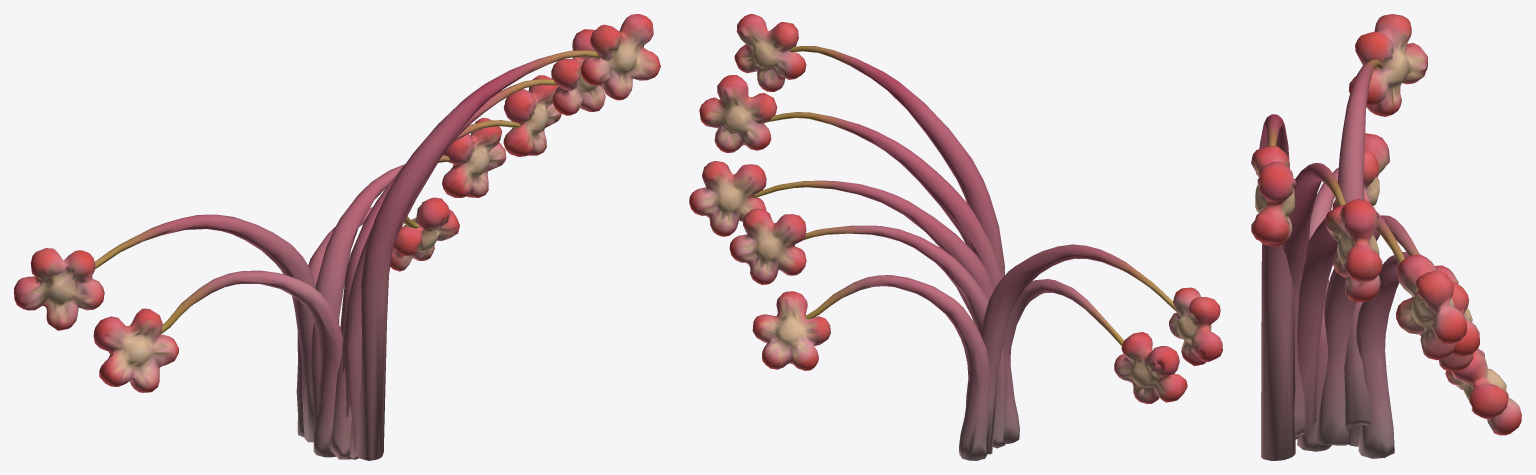
3 views of the same model, side by side, from view 1: azimuth 30°, elevation 25°; view 2: azimuth 150°, elevation 25°; view 3: azimuth 270°, elevation 25° (orthographic). The views are drawn at different scales.
Visible parts, largest first — view 1: LOD 0_4441588532611241159_8b1ec056629fd29428edb46917b1fdee; view 2: LOD 0_4441588532611241159_8b1ec056629fd29428edb46917b1fdee; view 3: LOD 0_4441588532611241159_8b1ec056629fd29428edb46917b1fdee.
Part boxes in pixels (left/top/right/bottom): LOD 0_4441588532611241159_8b1ec056629fd29428edb46917b1fdee: left=14, top=14, right=660, bottom=460; LOD 0_4441588532611241159_8b1ec056629fd29428edb46917b1fdee: left=689, top=14, right=1222, bottom=460; LOD 0_4441588532611241159_8b1ec056629fd29428edb46917b1fdee: left=1251, top=14, right=1521, bottom=460.
Bounding box in the file's own units: 13.86 × 8.6 × 4.66.
